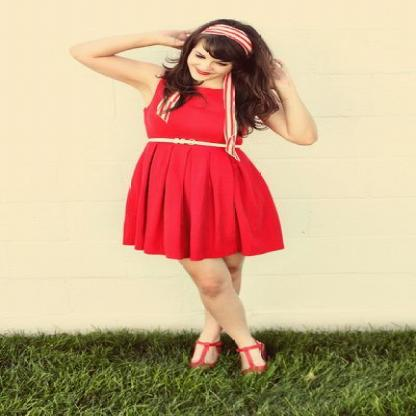dress: (123, 78, 283, 260)
shoe: (188, 342, 264, 386)
